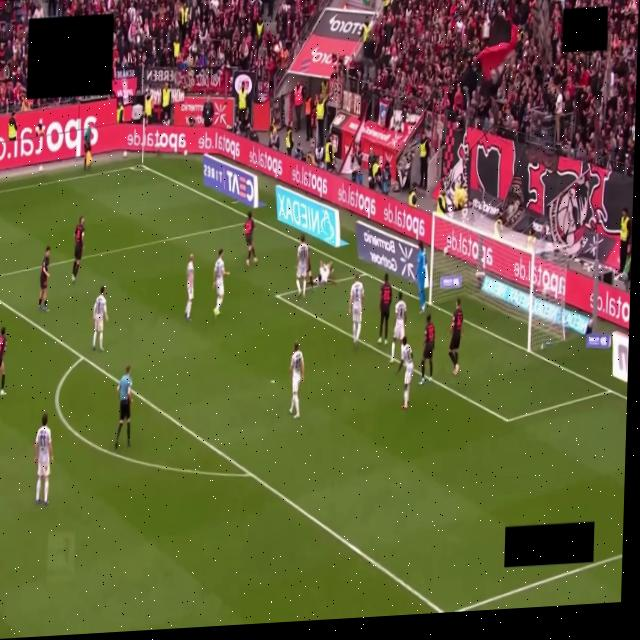player: (34, 414, 52, 505), (289, 342, 304, 419), (397, 336, 413, 408), (390, 292, 406, 363), (348, 274, 363, 347), (212, 249, 228, 316), (448, 299, 462, 375), (419, 314, 434, 384), (377, 274, 391, 344), (92, 287, 107, 350), (38, 247, 50, 312), (296, 235, 308, 297), (244, 211, 257, 267), (72, 217, 83, 282), (416, 242, 426, 312), (184, 254, 193, 321), (313, 260, 335, 285), (0, 327, 6, 395), (306, 250, 313, 292)
referee: (114, 366, 131, 449)
